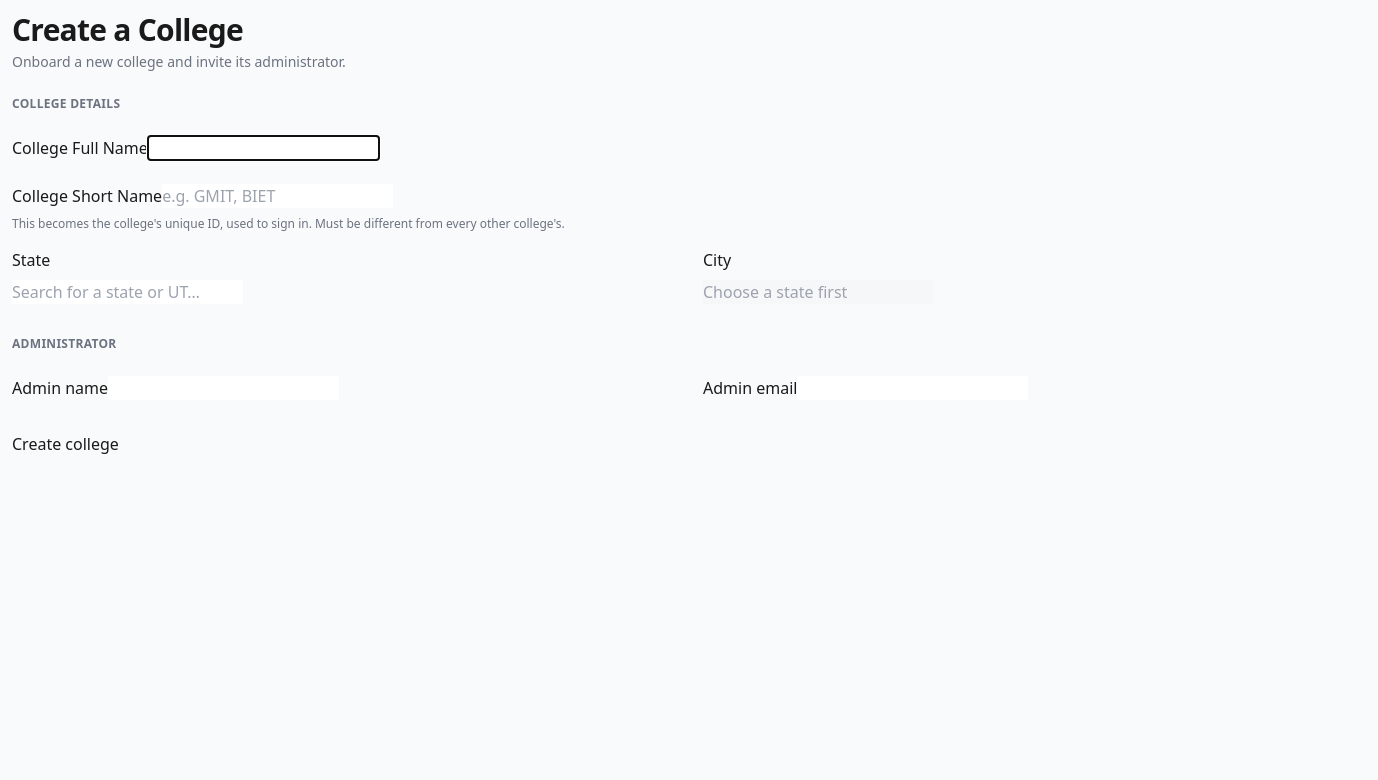
Scenario: CreateCollege › enables City and offers only that State's cities once a State is selected
Type "Karnat" into the dropdown labelled "State" at (128, 292), box [12,280,243,304]
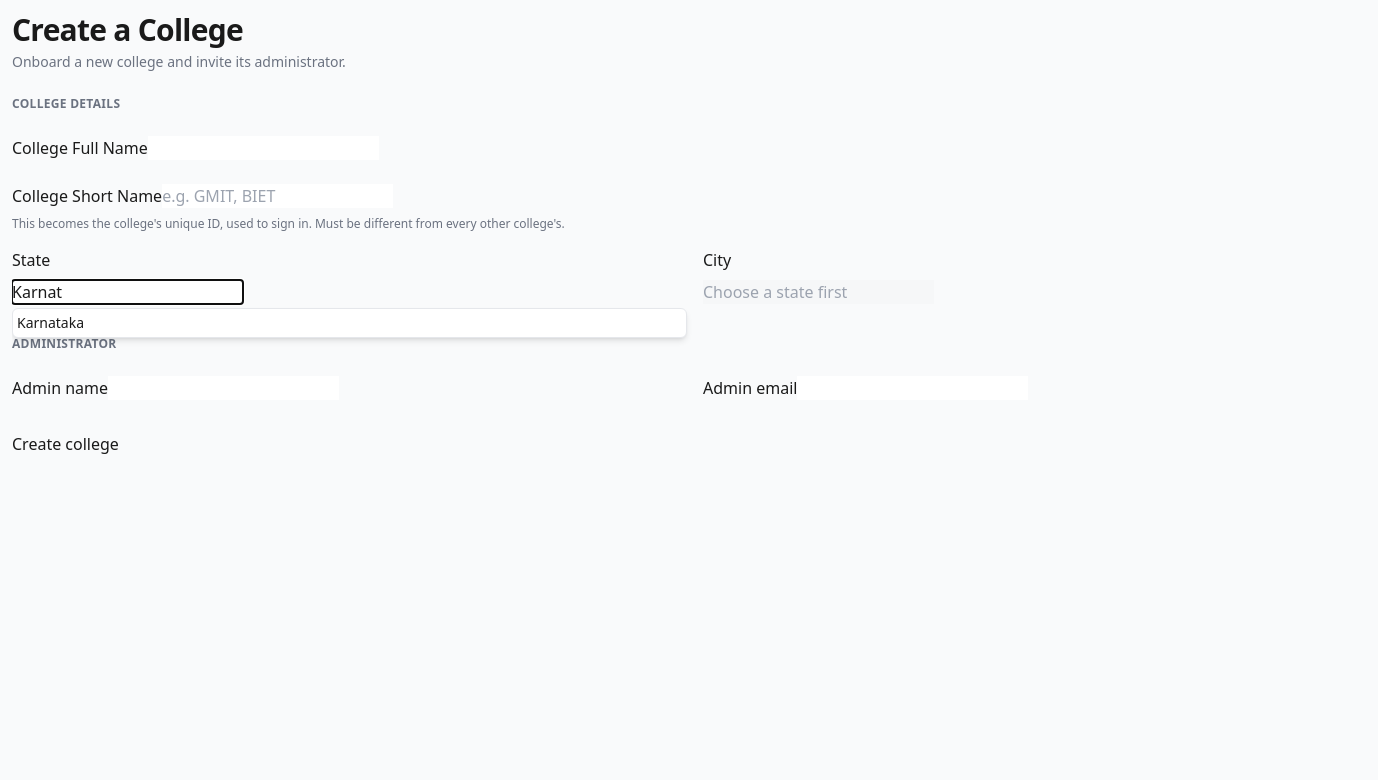
Click the option "Karnataka" at (50, 322), box [17,313,84,332]
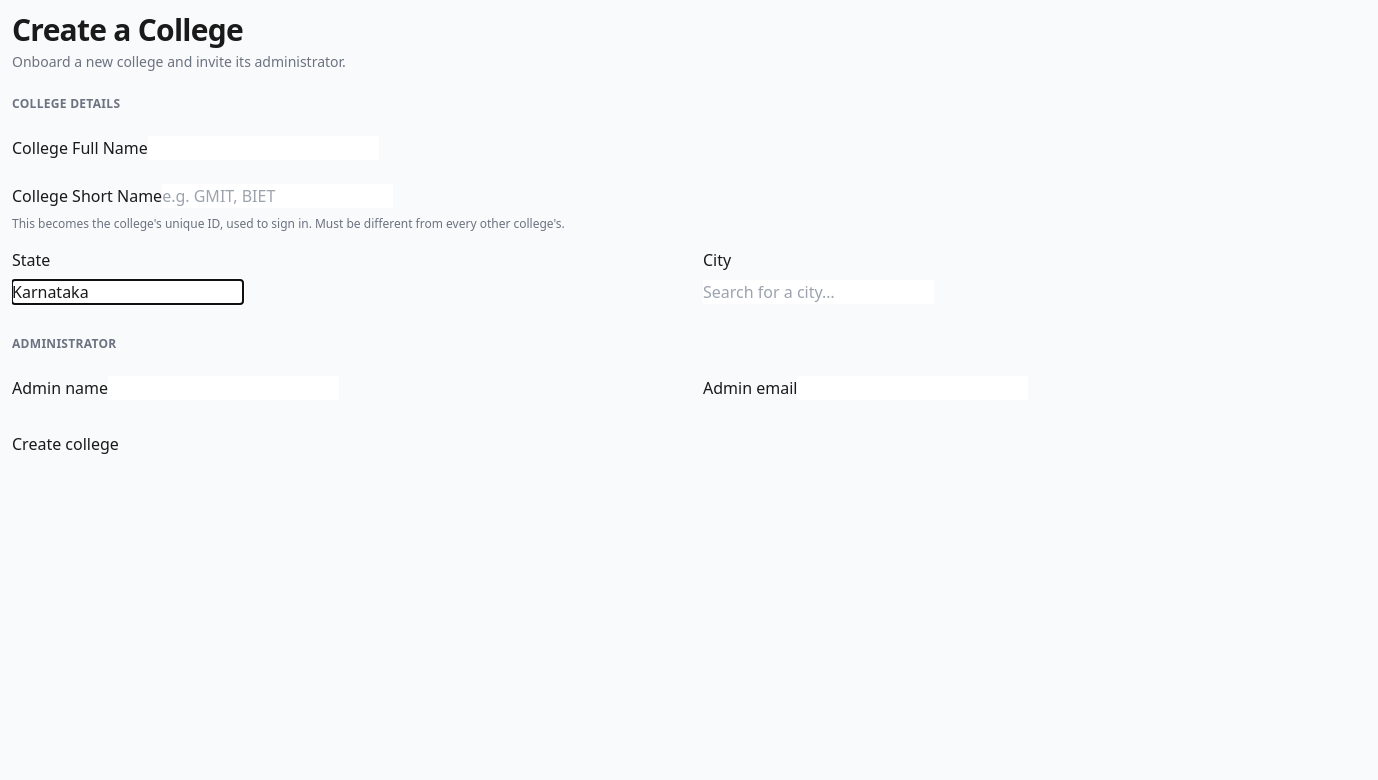
Result: the dropdown labelled "City" is enabled
Click the dropdown labelled "City" at (818, 292), box [703,280,934,304]
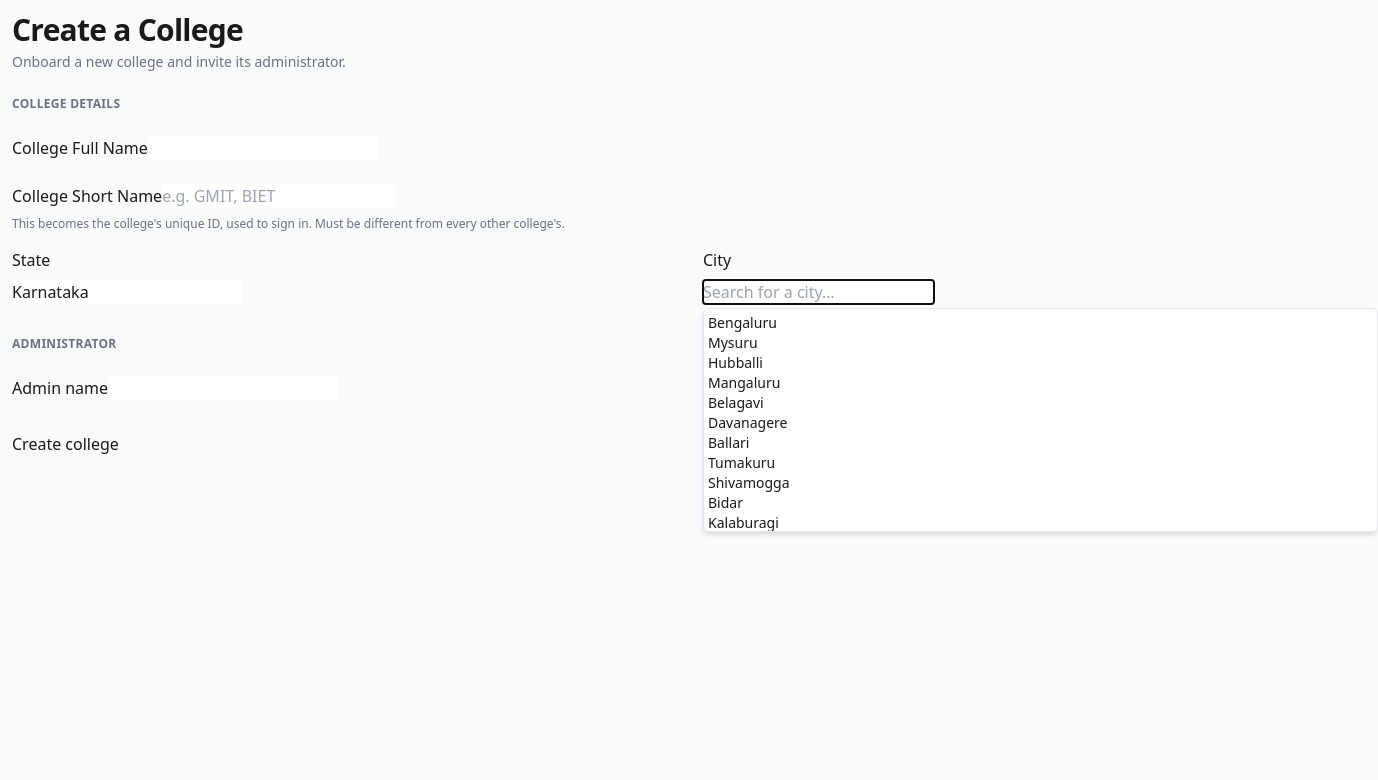
Result: the option "Bengaluru" is shown at [708,313,777,332]
